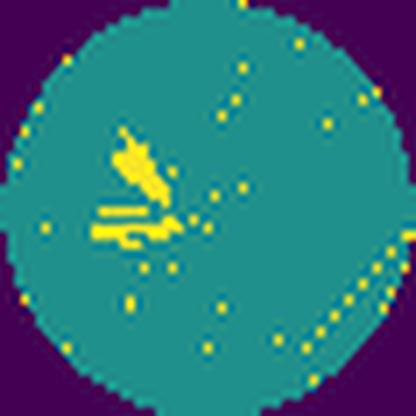Loc: (110, 124, 176, 209), (92, 202, 188, 251)
